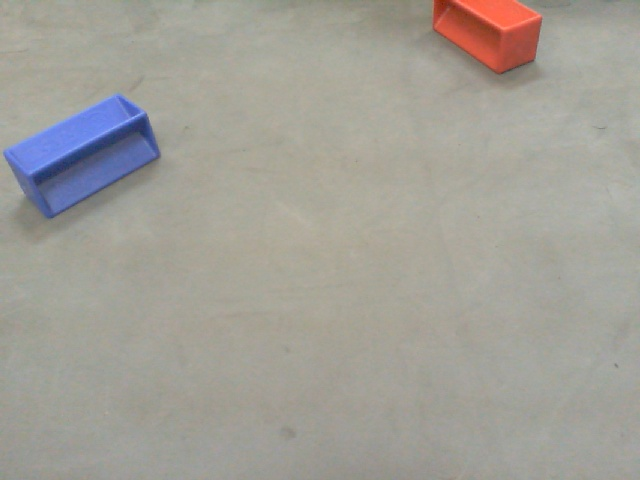BlueSample: (2, 92, 164, 231)
RedSample: (428, 1, 542, 77)
